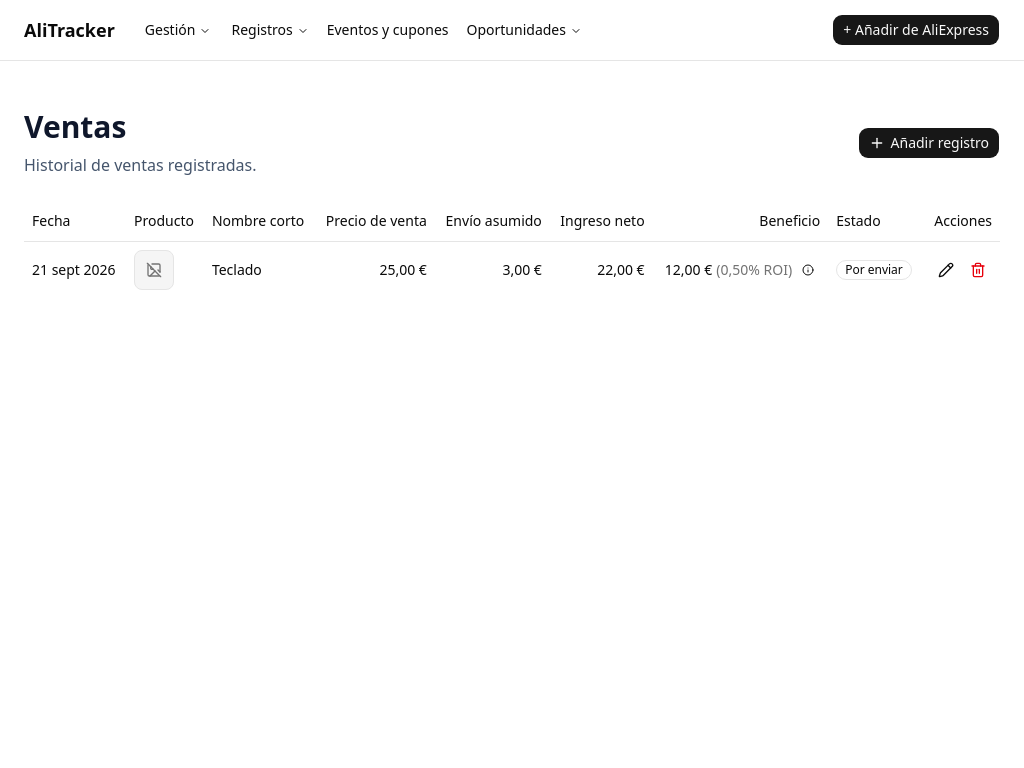
Test: transaction pages › shows sales without a publication column and defaults to to_be_sent
Expected: the text "Teclado" is shown, [204, 241, 315, 298]
Expected: the column heading "Envío asumido" is shown, [435, 201, 550, 241]
Click the button "Añadir registro" at (929, 143), box [858, 127, 1000, 159]
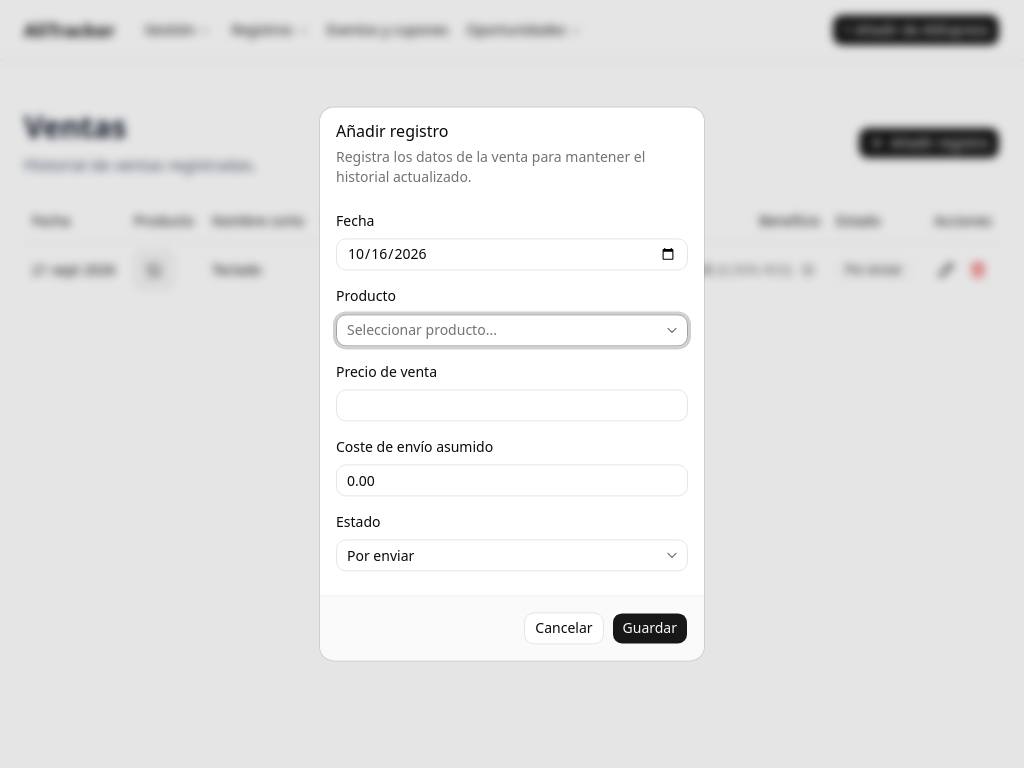
Expected: the dropdown named "Seleccionar estado" holds "Por enviar", [337, 540, 660, 572]
Expected: the number field labelled "Coste de envío asumido" holds "0", [336, 464, 688, 496]
